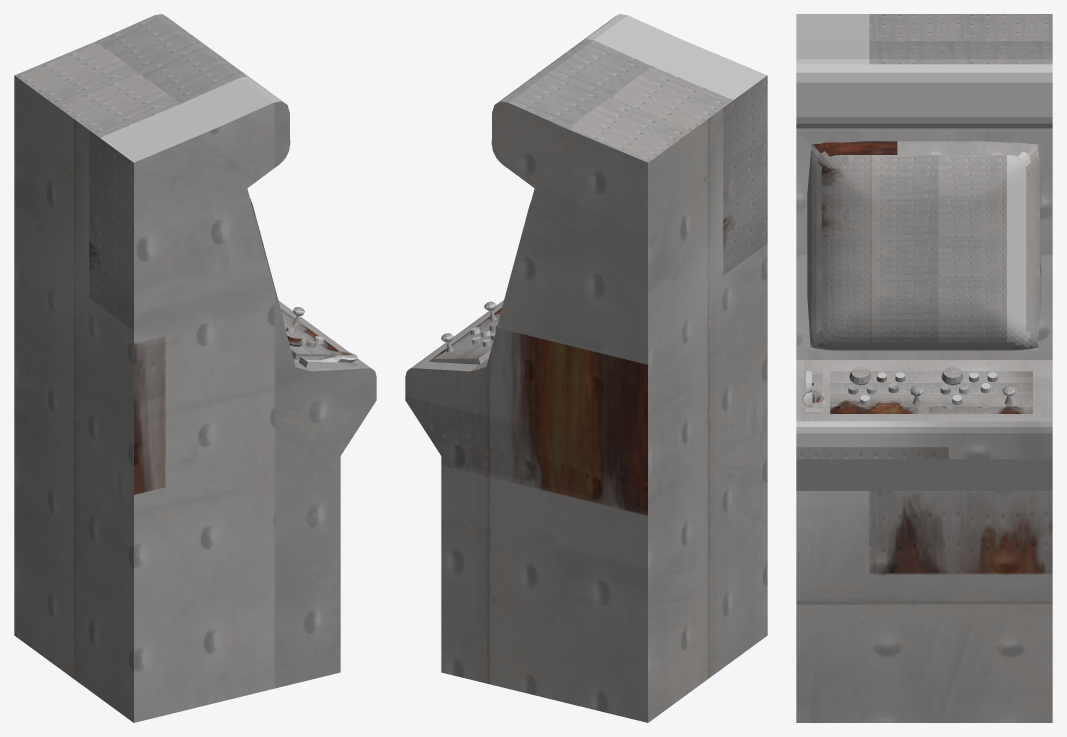
The model's file is arcade.fbx.
The picture shows the model from 3 angles, left to right: view 1: azimuth 30°, elevation 25°; view 2: azimuth 150°, elevation 25°; view 3: azimuth 270°, elevation 25°; orthographic projection. The views are drawn at different scales.
Parts seen in each view (by area): view 1: arcadetemel, tustahtası, jetonvestart, tuslar; view 2: arcadetemel, tustahtası, tuslar; view 3: arcadetemel, ekran, tustahtası, tuslar, jetonvestart.
Boxes of the visible parts, x1,y1,x2,y2 form: arcadetemel: [14, 14, 376, 722]; tustahtası: [281, 308, 339, 359]; jetonvestart: [299, 351, 357, 367]; tuslar: [280, 306, 323, 347]; arcadetemel: [405, 14, 767, 722]; tustahtası: [429, 308, 501, 364]; tuslar: [441, 301, 497, 352]; arcadetemel: [796, 14, 1052, 722]; ekran: [807, 141, 1041, 350]; tustahtası: [830, 371, 1032, 413]; tuslar: [848, 366, 1015, 405]; jetonvestart: [801, 371, 826, 413].
Bounding box in the file's own units: 765 × 1766 × 652.
5 materials, 5 textured.
